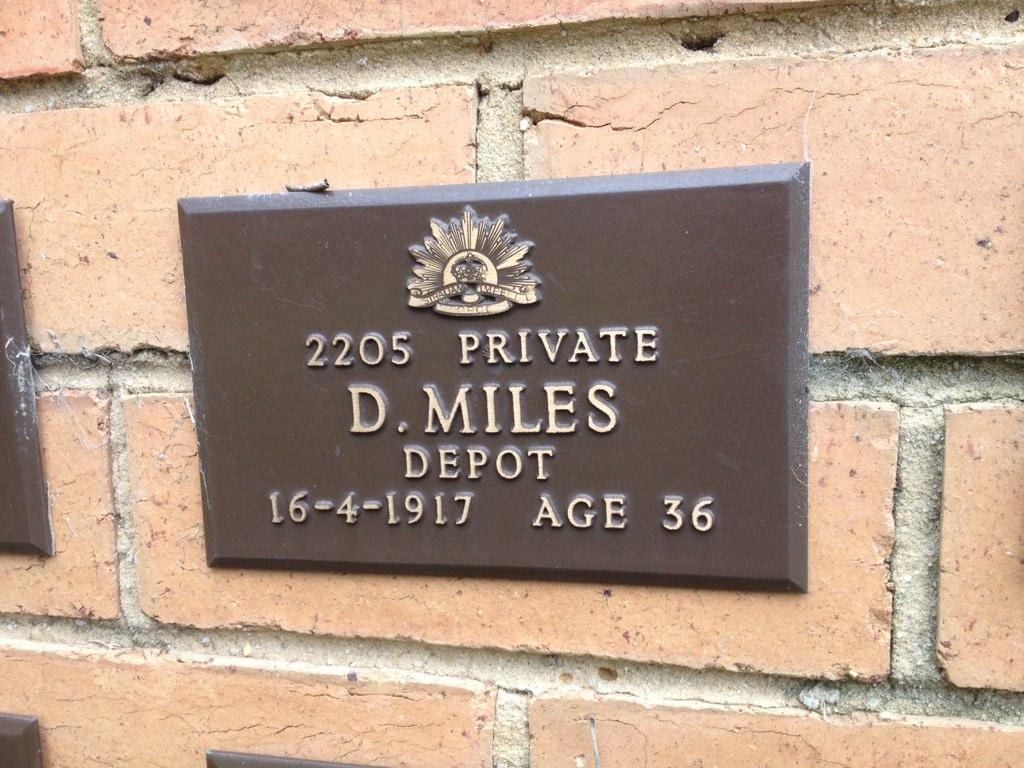plaque: (175, 141, 821, 633)
